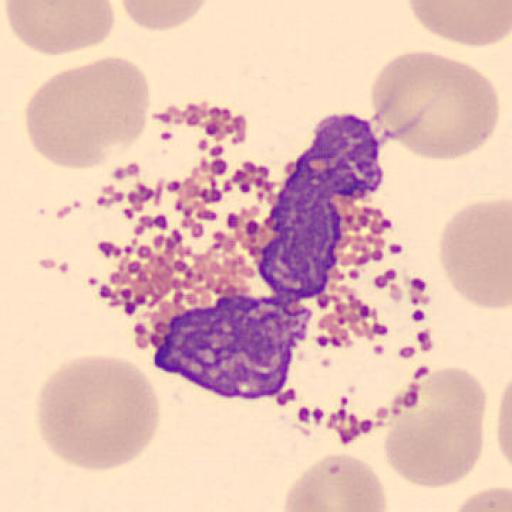RBC: (34, 354, 162, 474), (23, 56, 153, 171), (369, 51, 501, 162), (384, 364, 488, 488), (438, 197, 512, 311), (384, 406, 484, 488), (282, 451, 388, 512), (3, 0, 115, 56), (406, 0, 511, 48), (118, 0, 212, 32), (451, 486, 511, 512), (496, 381, 512, 470)
WBC: (71, 147, 415, 403)
